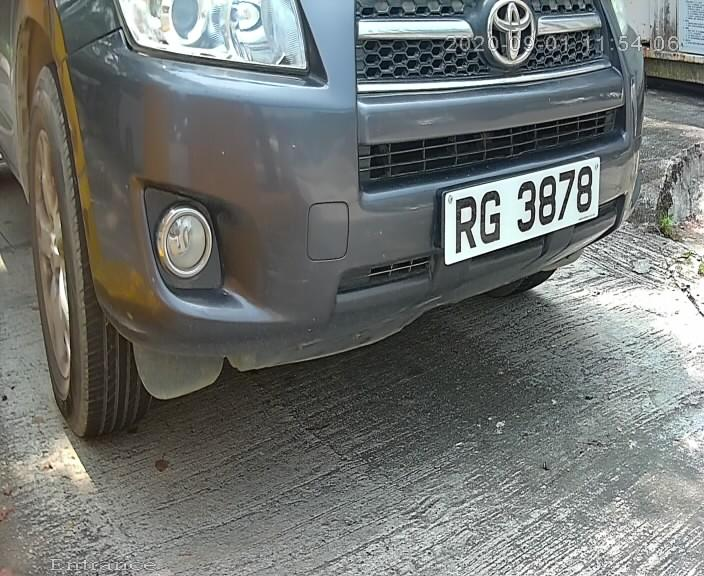License Plate: (434, 150, 601, 271)
